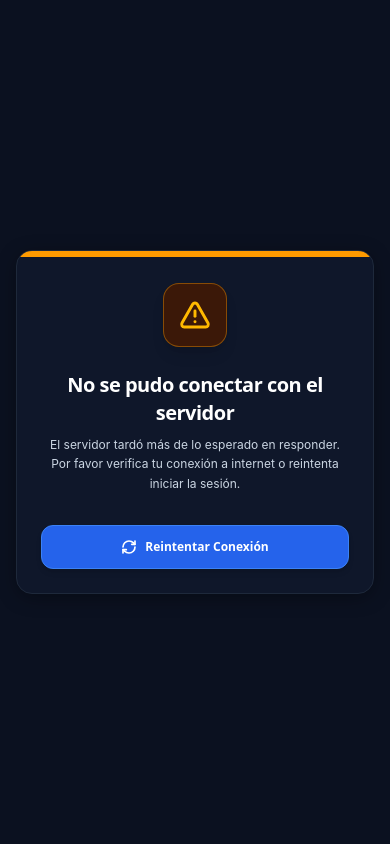
Backend Cold-Start Wakeup & Polling UX › displays timeout error screen if backend does not wake up within timeout, allowing retry
Check: the heading with test id "server-status-title" shows "No se pudo conectar", box [67,371,323,426]
What coordinates should you click on to do the following:
click the button with test id "retry-connection-btn"
I would click on:
 (195, 547)
Its box is [41,525,349,569].
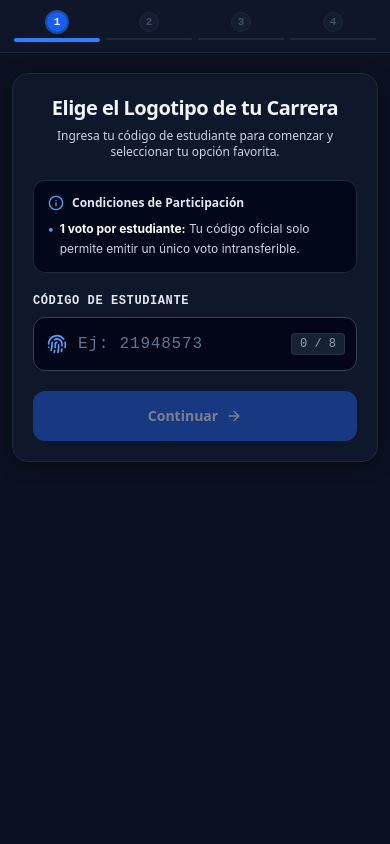
Check: the field with test id "student-code-input" is shown, box [33,317,357,371]
Check: the element with test id "server-wakeup-overlay" is gone
